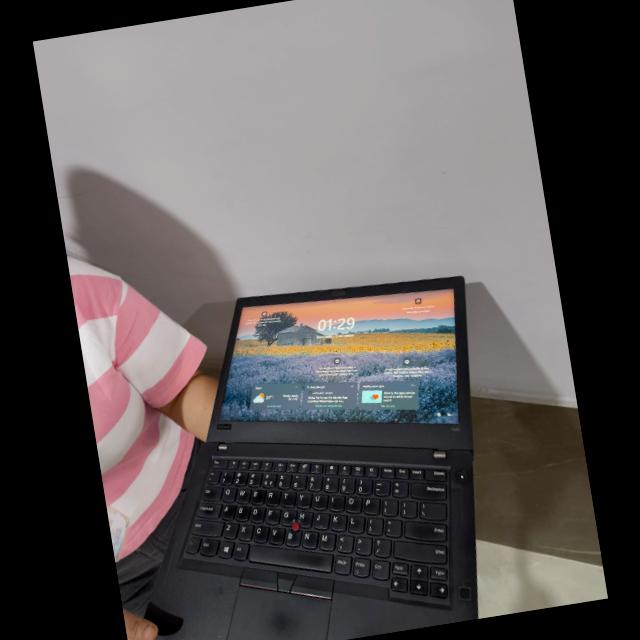laptop: (106, 250, 527, 640)
